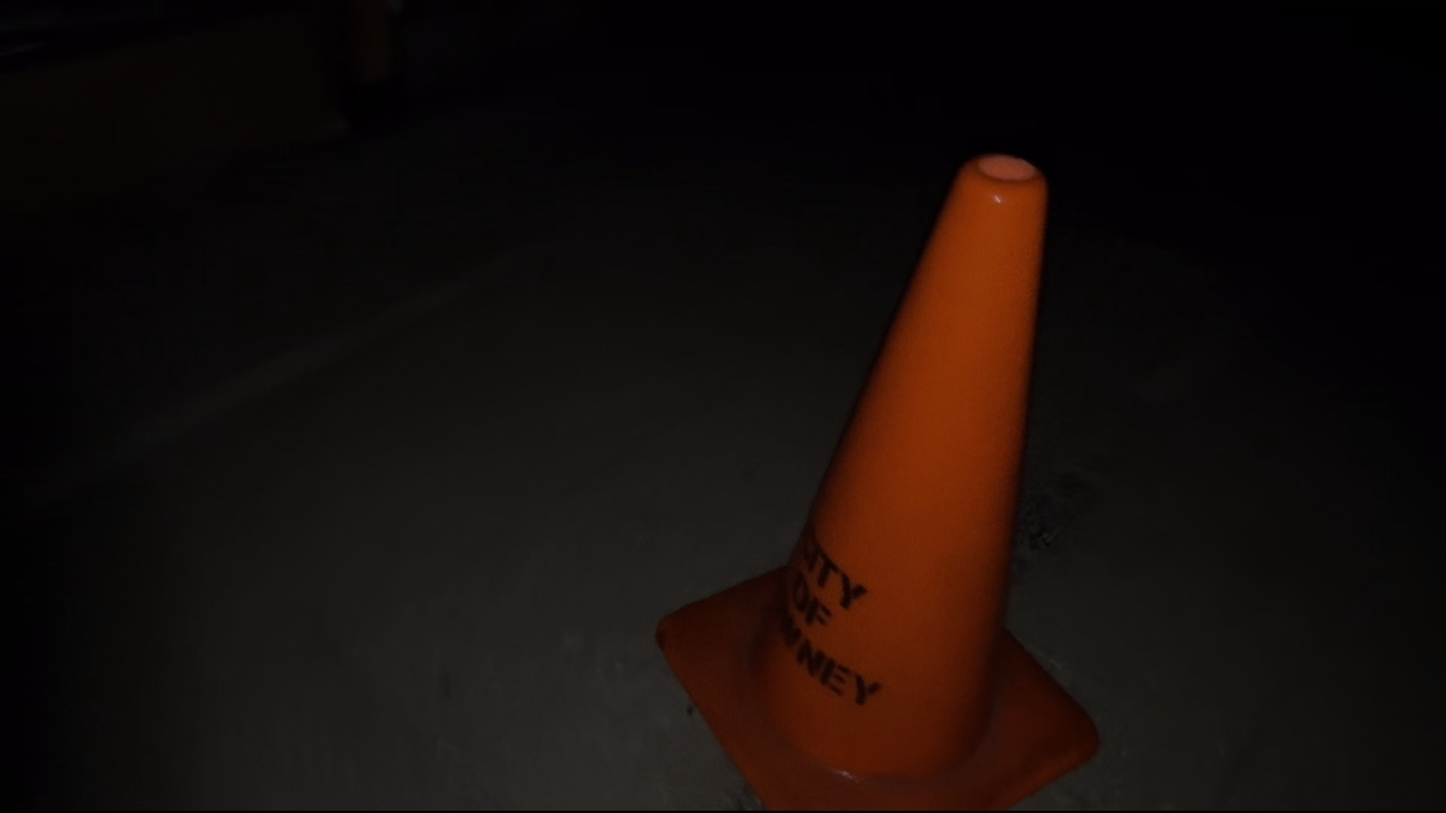traffic_cone: (654, 152, 1101, 810)
